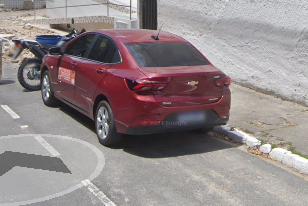car: (38, 20, 236, 152)
